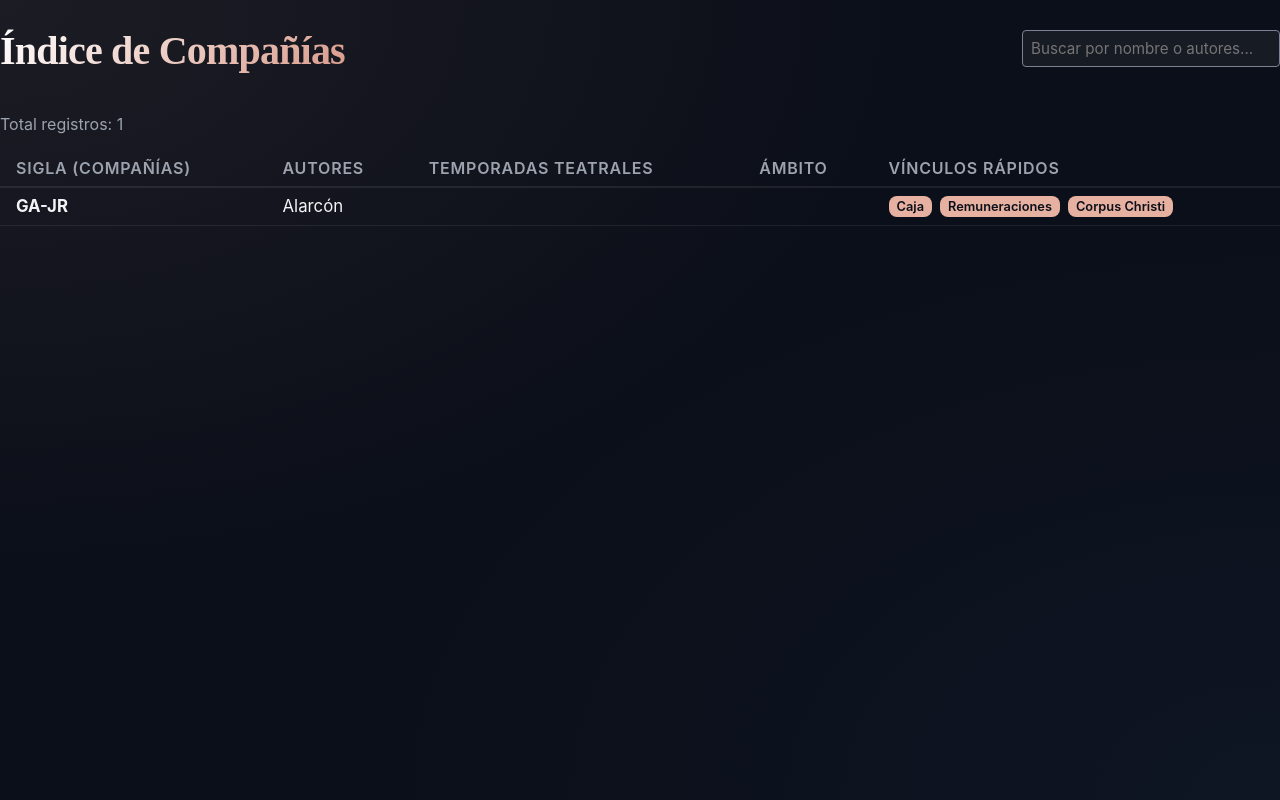
Test: índice de compañías: navegar a Caja / Remuneraciones › si la lectura falla: mensaje propio de navegación (no habla de borrar), no navega y cierra la capa de análisis
This screenshot has width=1280, height=800.
What coordinates should you click on to do the following:
click the button "Remuneraciones"
I would click on:
 (1000, 206)
Its box is [940, 196, 1060, 217].
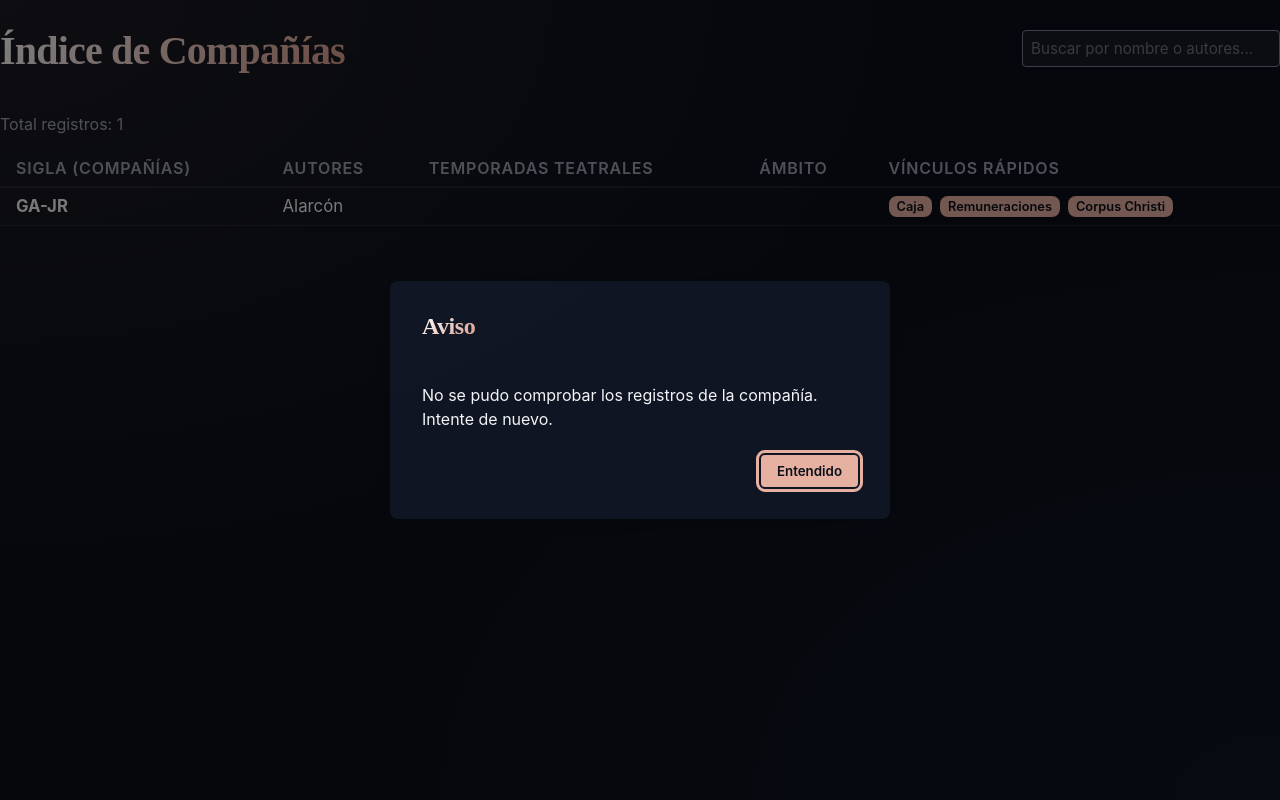
Now the text "No se pudo comprobar los registros de la compañía. Intente de nuevo." is shown, box [422, 384, 858, 432]
